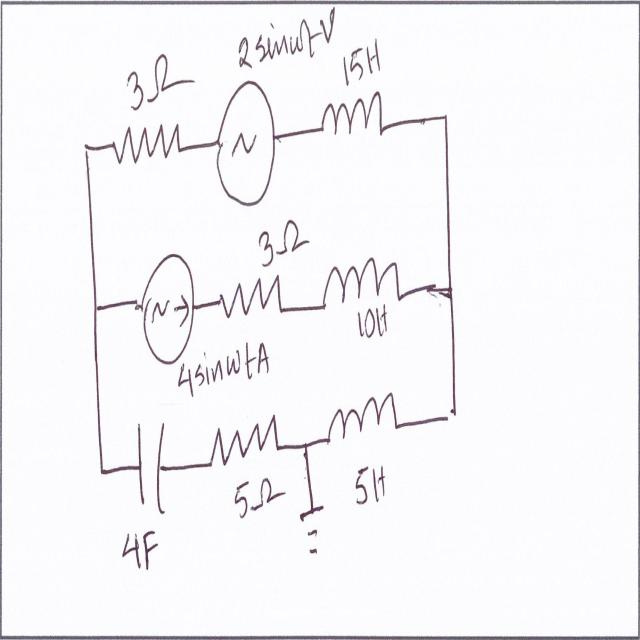ac_current: (216, 79, 279, 215)
capacitor: (134, 414, 174, 521)
current_source: (142, 246, 194, 370)
ground: (298, 494, 331, 567)
inductor: (319, 248, 408, 304), (328, 386, 399, 452), (318, 85, 385, 152)
resistor: (207, 399, 282, 470), (110, 117, 182, 168), (217, 269, 285, 323)
